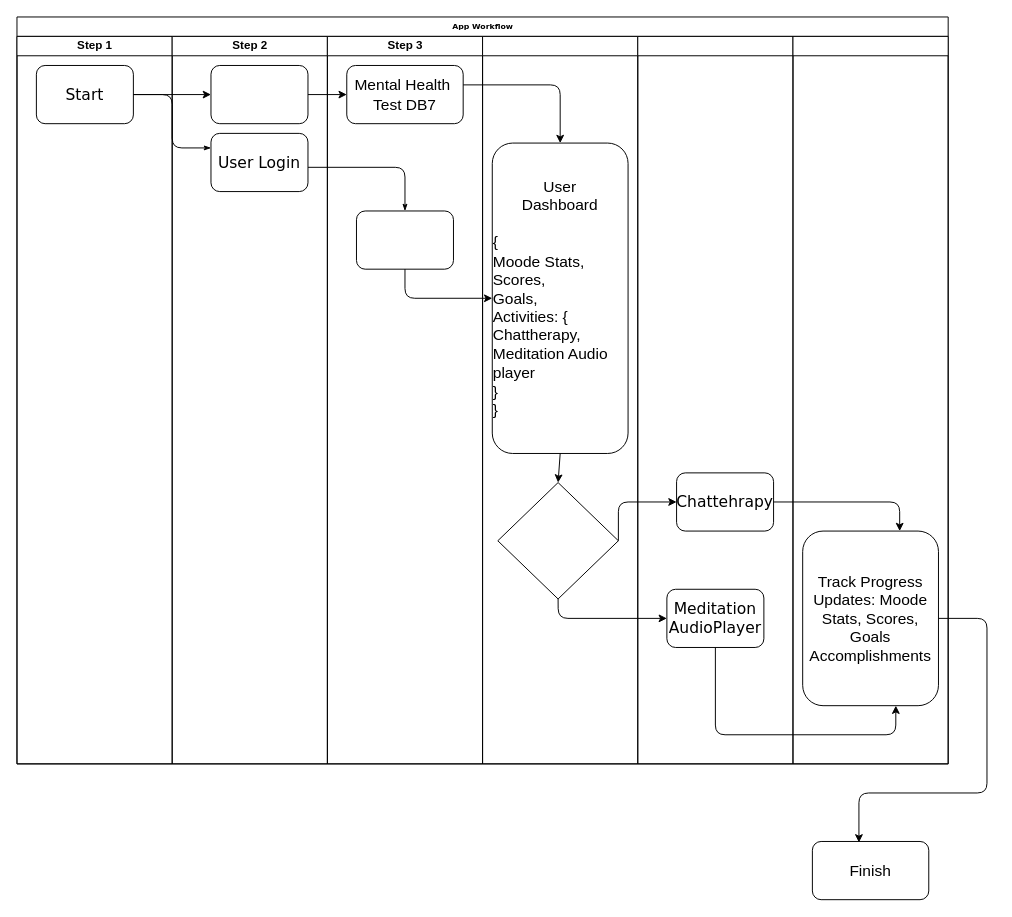
Image size: 1012x917. Some labels were removed from this diagram. Each missing label, with the box of its shape:
Choose Activity: (497, 482, 618, 599)
Daily Mood Survey: (356, 210, 453, 269)
Lane 6: (792, 35, 948, 764)
Step 4: (482, 35, 638, 764)
Step 5: (637, 35, 793, 764)
User SignUp: (210, 65, 308, 124)
